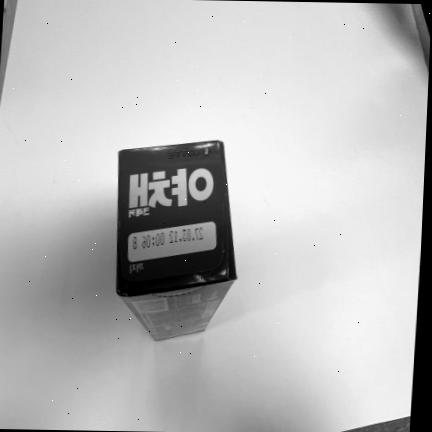cracker_vege: (115, 139, 237, 343)
